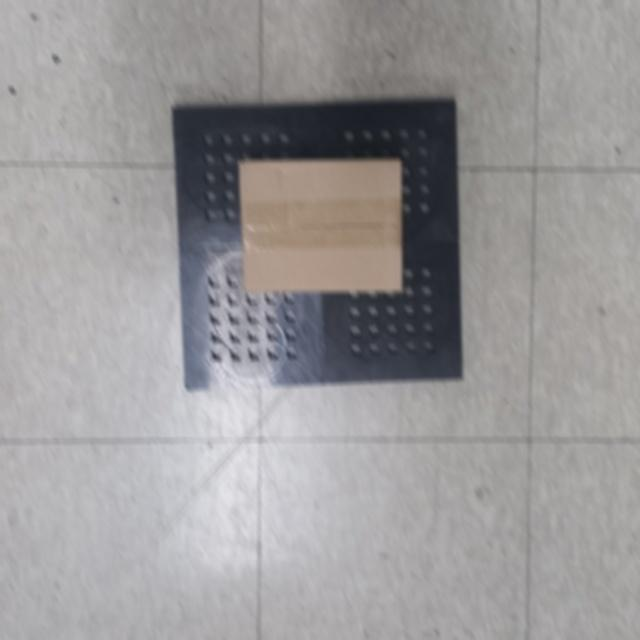box: (231, 151, 407, 298)
pallet: (168, 86, 469, 398)
